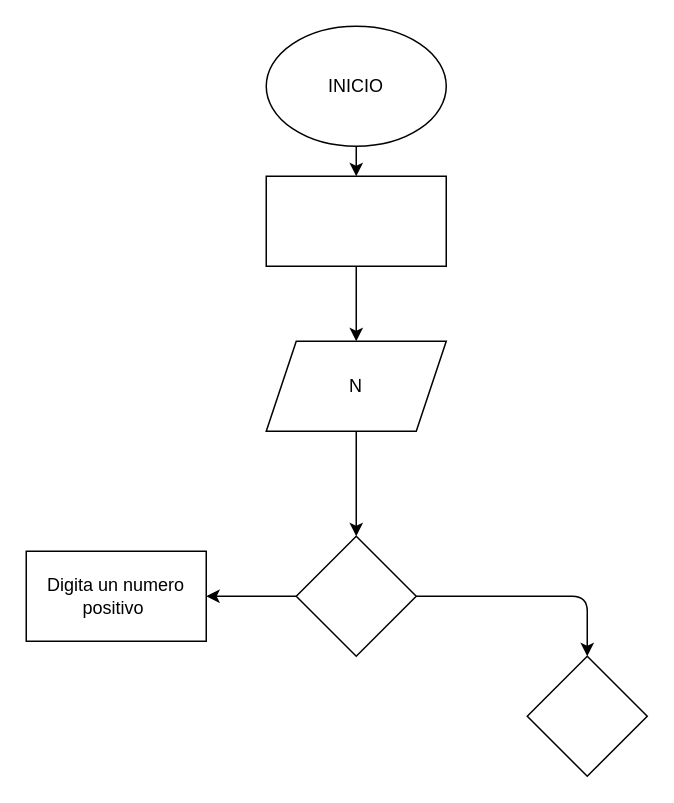
This 674x803 diagram has some shape labels left out. Here are the shapes that lost their labels. From the top down, the box of each, then its label:
(265, 175, 446, 266): suma = 0
(295, 535, 416, 656): N>0
